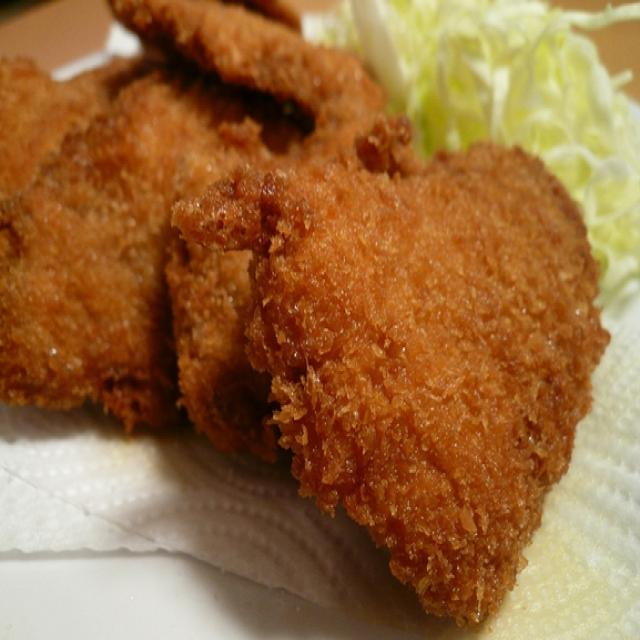牛肉菜式: (8, 15, 609, 624)
